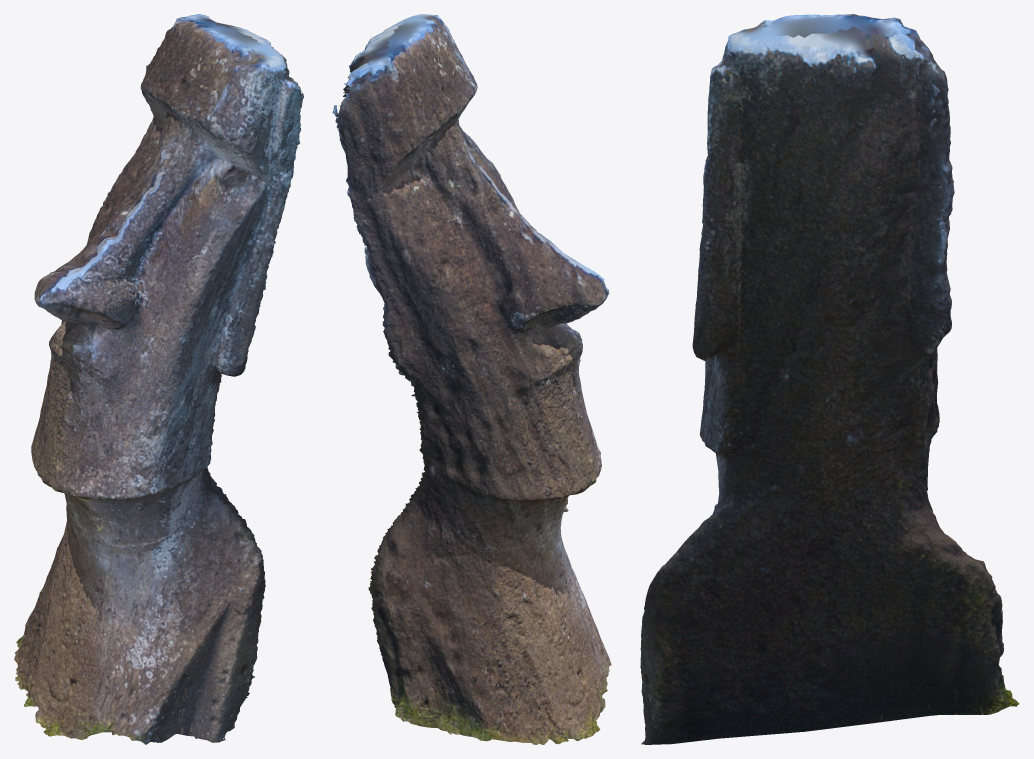
Rendered from moai.glb.
3 views of the same model, side by side, from view 1: azimuth 30°, elevation 25°; view 2: azimuth 150°, elevation 25°; view 3: azimuth 270°, elevation 25° (orthographic). The views are drawn at different scales.
Parts seen in each view (by area): view 1: Object_2; view 2: Object_2; view 3: Object_2.
Part boxes in pixels (bbox=[...]): Object_2: bbox=[14, 14, 303, 744]; Object_2: bbox=[332, 14, 611, 744]; Object_2: bbox=[640, 14, 1019, 744].
Bounding box in the file's own units: 1.14 × 3.05 × 1.32.
1 material, 1 textured.
